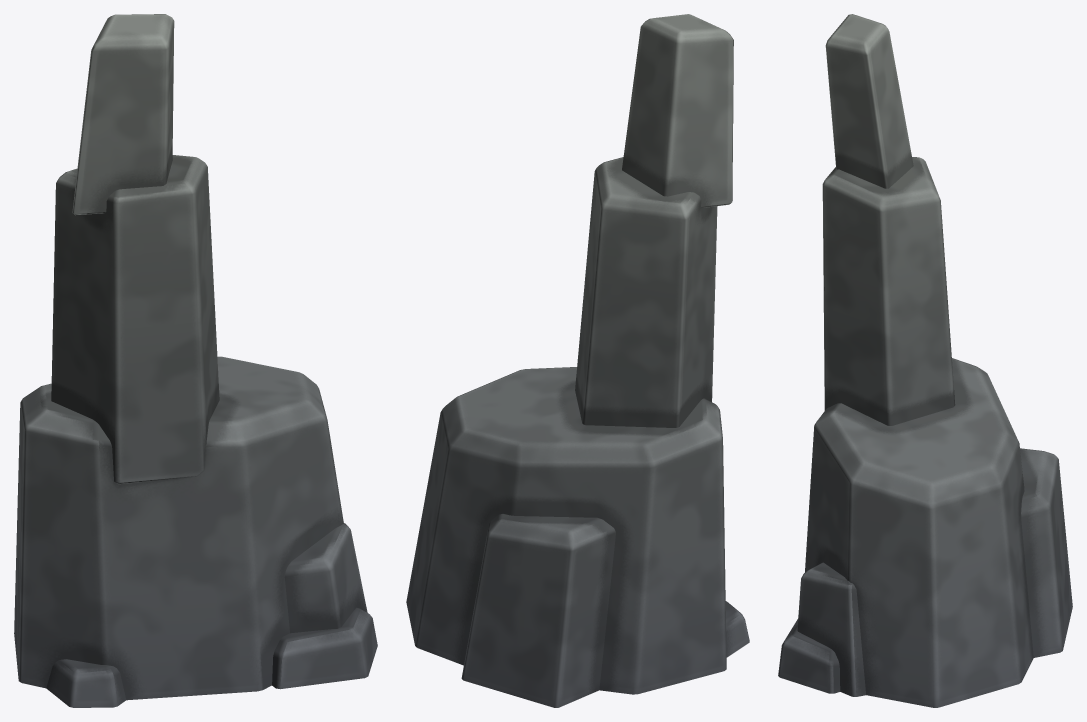
Rendered from spire_1.glb.
3 renders of one model, left to right at view 1: azimuth 30°, elevation 25°; view 2: azimuth 150°, elevation 25°; view 3: azimuth 270°, elevation 25°, orthographic. The views are drawn at different scales.
Parts seen in each view (by area): view 1: spire_1; view 2: spire_1; view 3: spire_1.
Boxes of the visible parts, x1,y1,x2,y2 form: spire_1: (14, 14, 377, 707); spire_1: (406, 14, 749, 707); spire_1: (778, 14, 1072, 707).
Bounding box in the file's own units: 3.2 × 6 × 2.8.
Materials: 1 (1 with a texture image).
